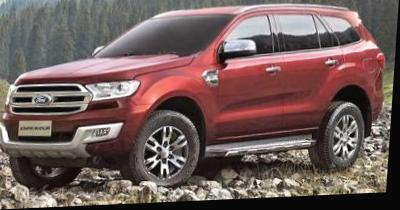License_Plate: (15, 120, 55, 135)
